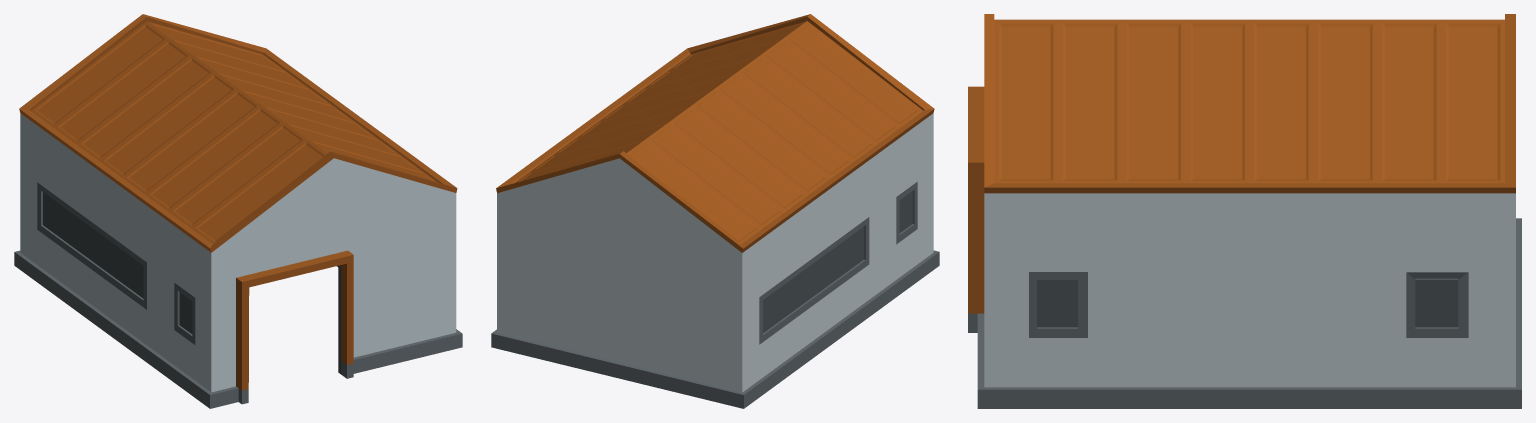
The model's file is model_polytope_dock_building08.fbx.
3 views of the same model, side by side, from view 1: azimuth 30°, elevation 25°; view 2: azimuth 150°, elevation 25°; view 3: azimuth 270°, elevation 25° (orthographic). The views are drawn at different scales.
Visible parts, largest first — view 1: model_polytope_dock_building08; view 2: model_polytope_dock_building08; view 3: model_polytope_dock_building08.
Boxes of the visible parts, <box> form: model_polytope_dock_building08: <box>14,14,462,408</box>; model_polytope_dock_building08: <box>491,14,939,408</box>; model_polytope_dock_building08: <box>968,14,1521,408</box>.
Size of the model in its own units: 1275 by 1074 by 1742.
Materials: 1 (1 with a texture image).
